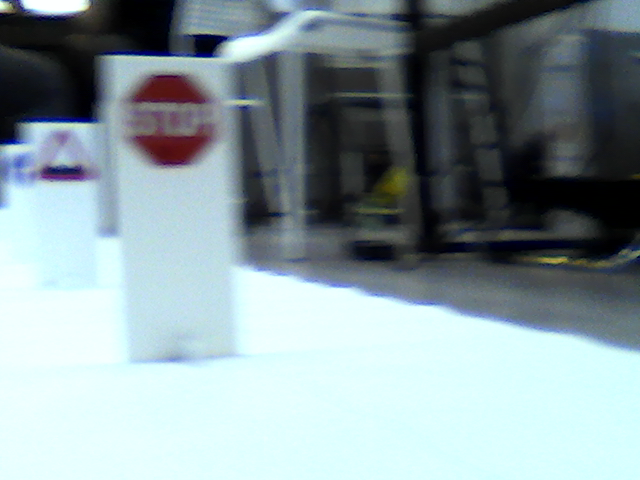Nerov: (42, 129, 96, 183)
Stop: (127, 74, 216, 167)
